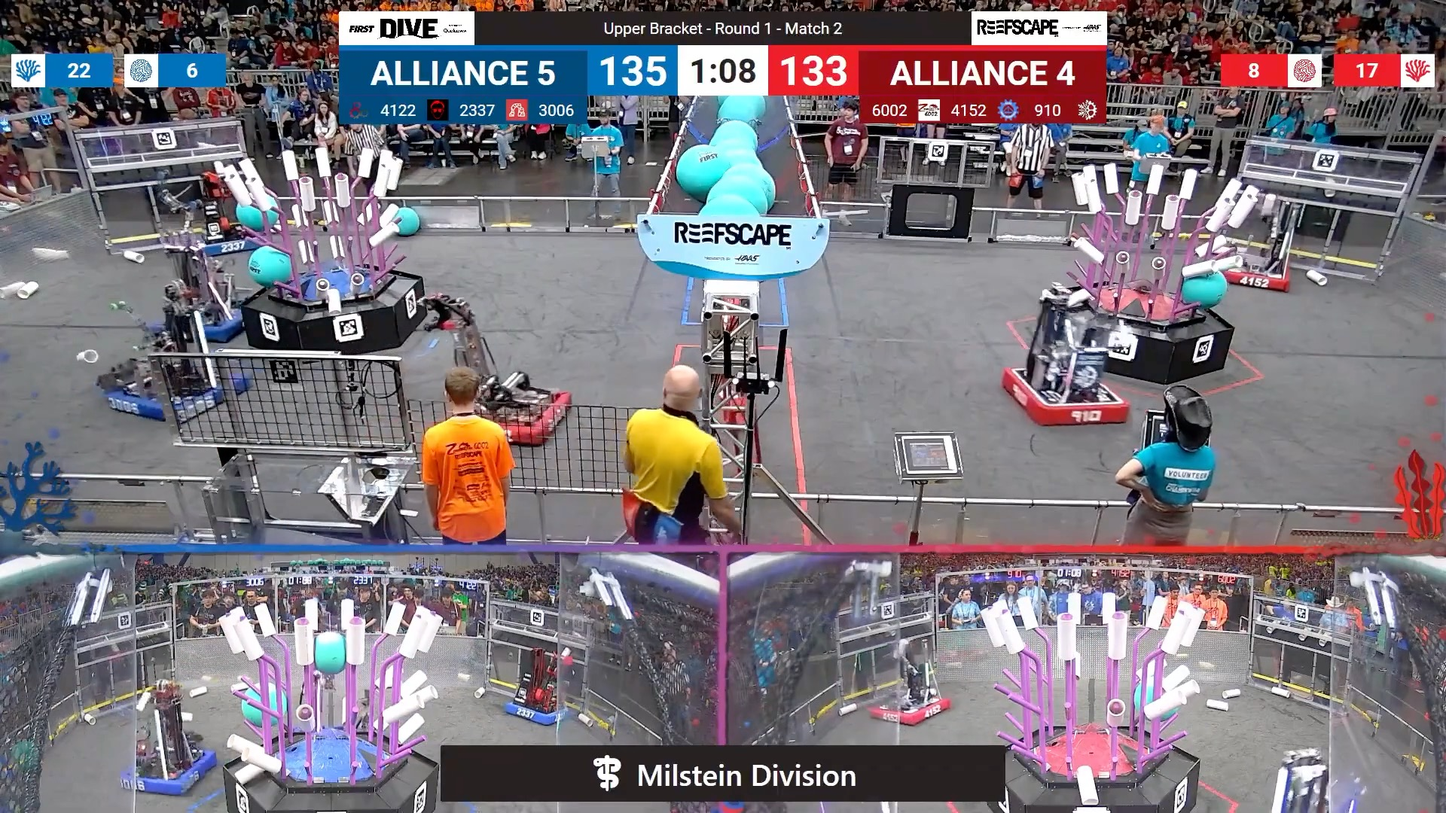bumpers: (995, 367, 1138, 434), (93, 372, 236, 428), (459, 386, 575, 444), (116, 744, 224, 800), (159, 303, 253, 344), (866, 690, 956, 727), (1212, 260, 1301, 296), (498, 695, 575, 730), (182, 239, 270, 259)
